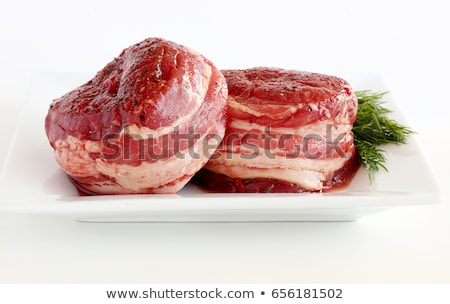bacon: (56, 46, 216, 146), (194, 60, 360, 154)
